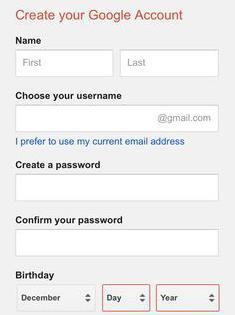dropdown: (17, 285, 98, 313), (157, 285, 221, 313), (103, 285, 152, 313)
input: (15, 229, 221, 258), (15, 173, 221, 202), (16, 106, 220, 134), (121, 50, 220, 78), (16, 51, 116, 78)
label: (15, 9, 185, 22), (14, 137, 187, 148), (16, 214, 125, 228), (17, 92, 123, 102), (16, 162, 102, 171), (13, 271, 57, 282), (16, 37, 44, 47)
